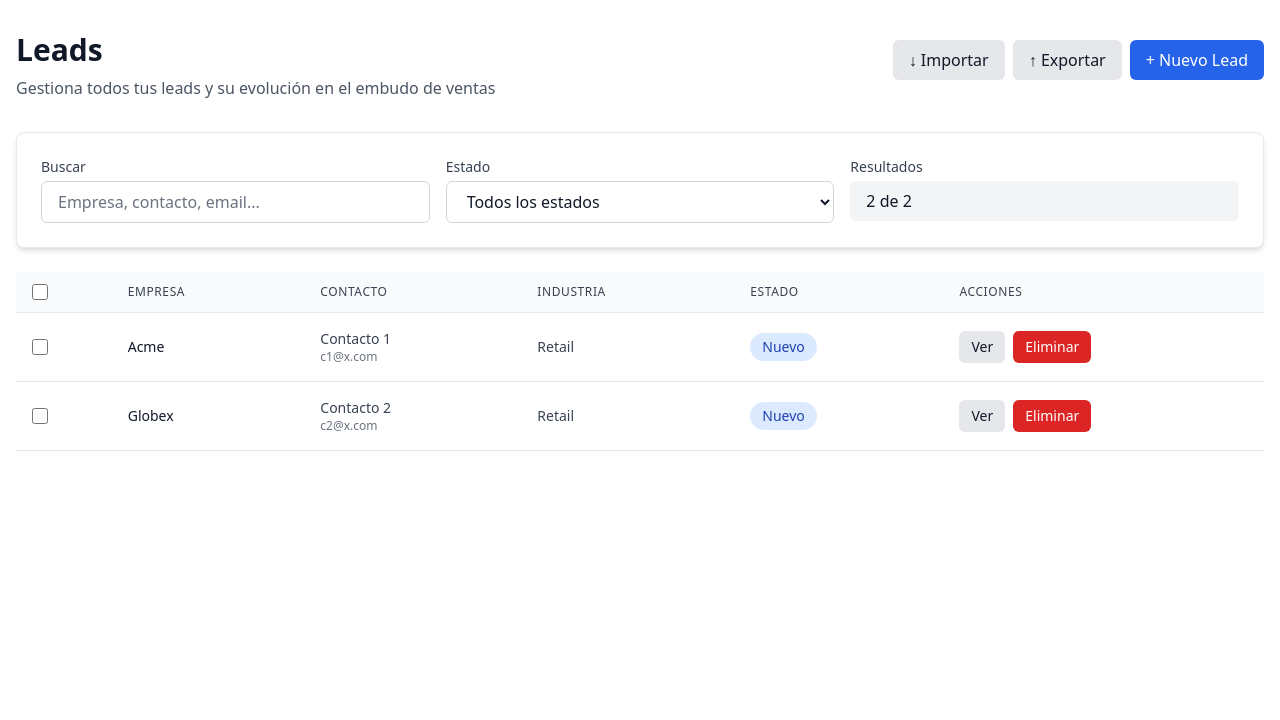
Test case: LeadsPage › select all toggles every row and shows bulk bar
What coordinates should you click on to do the following:
click the checkbox next to "Empresa"
I would click on:
 (40, 292)
Its box is top-left (32, 284), bottom-right (48, 300).
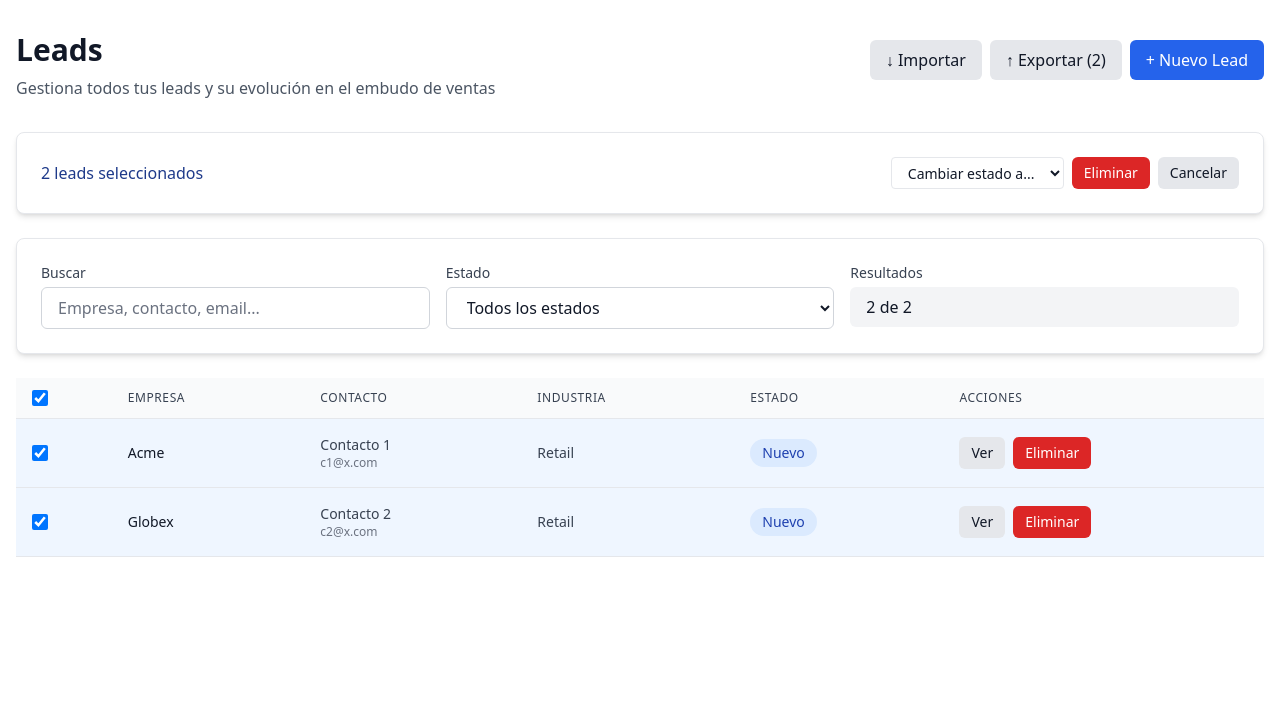
Check: the text "2 leads seleccionados" is shown, box top-left (41, 161), bottom-right (203, 185)
What coordinates should you click on to do the following:
click the checkbox next to "Empresa"
I would click on:
 (40, 398)
Its box is top-left (32, 390), bottom-right (48, 406).
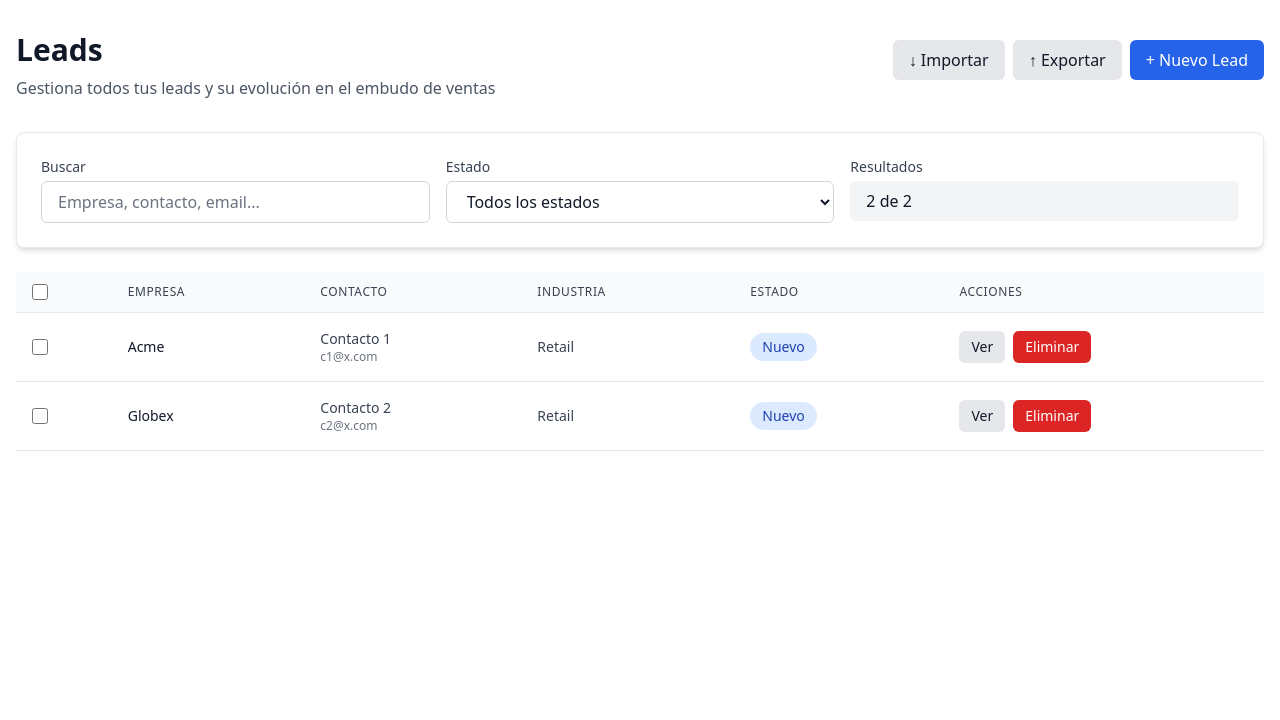
Check: the text "seleccionados?" is gone
